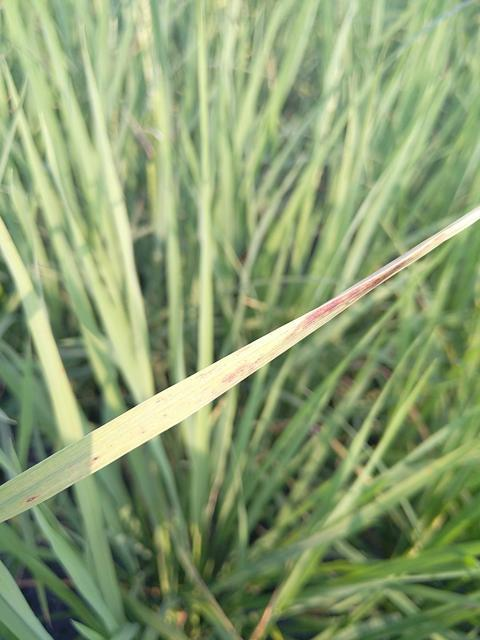Leaf Streak: (0, 207, 479, 528)
